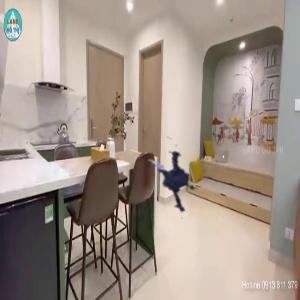drone: (132, 136, 215, 219)
